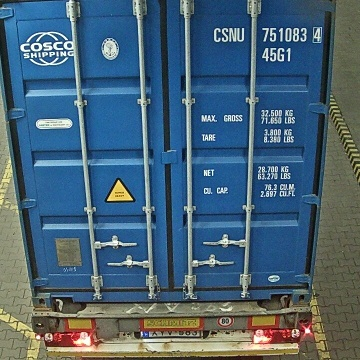serial_id: (214, 26, 321, 41)
